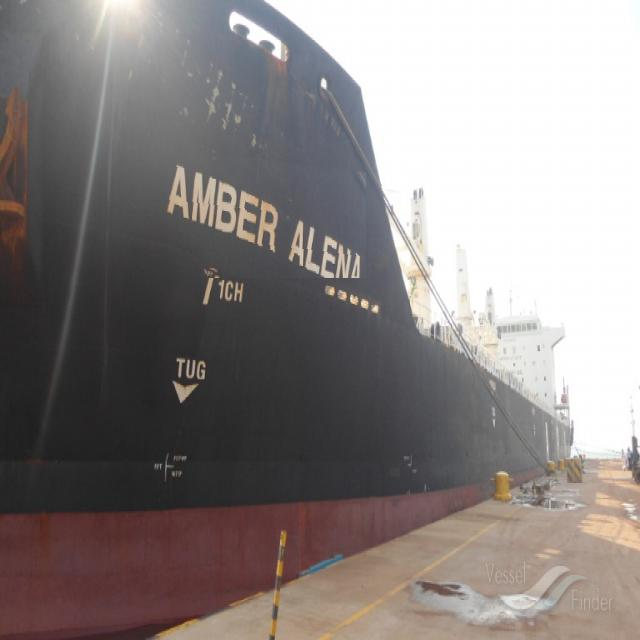OCR: (156, 147, 366, 278)
